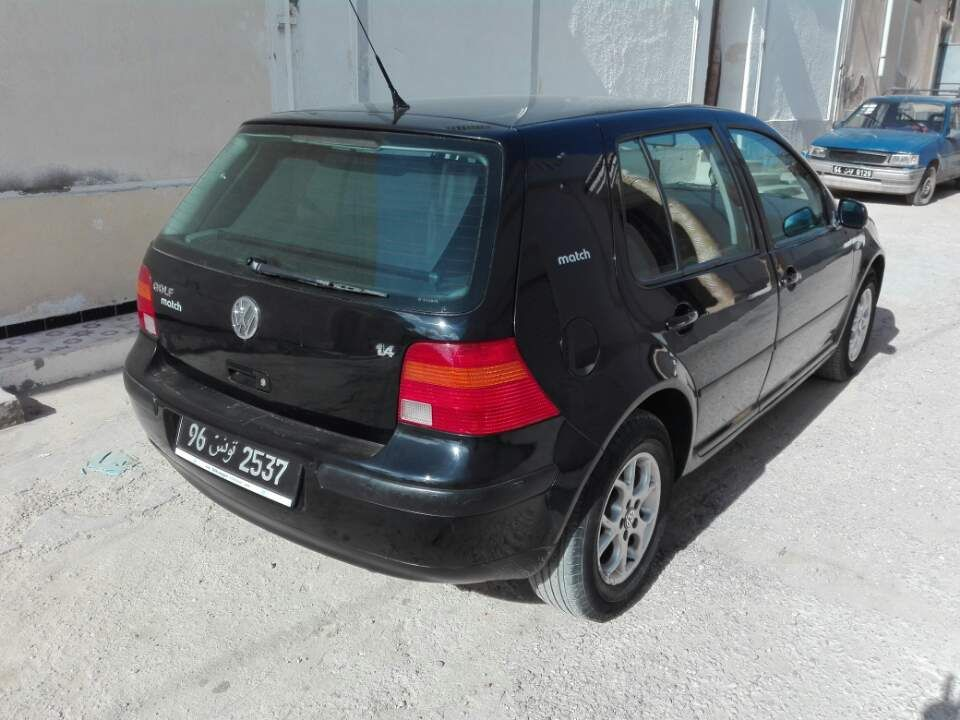LP: (174, 407, 296, 508)
